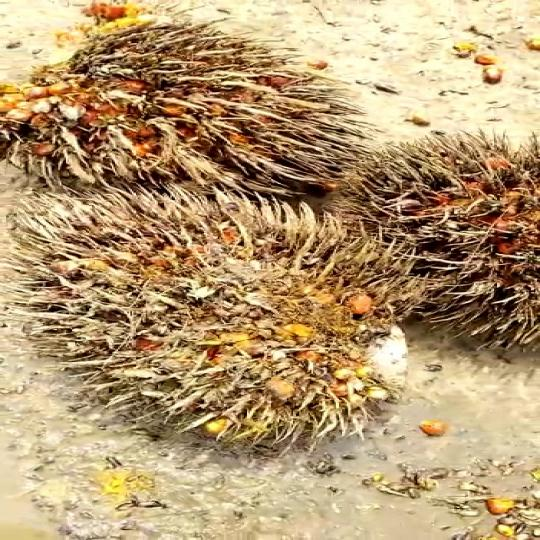terlalu masak: (0, 214, 428, 438), (0, 31, 346, 184)
